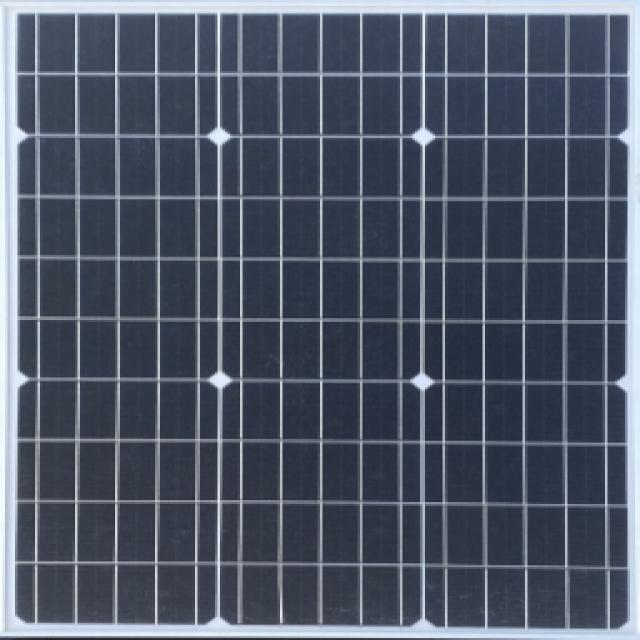no faulty: (6, 18, 623, 629)
